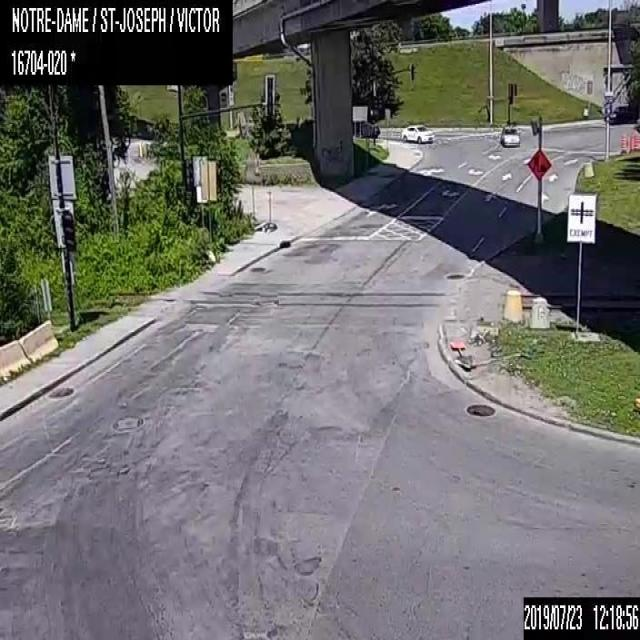construction: (526, 148, 551, 180), (620, 132, 625, 151), (634, 130, 639, 149)
vehicle: (603, 105, 637, 124), (401, 124, 433, 143), (352, 120, 380, 137), (500, 125, 519, 145)
